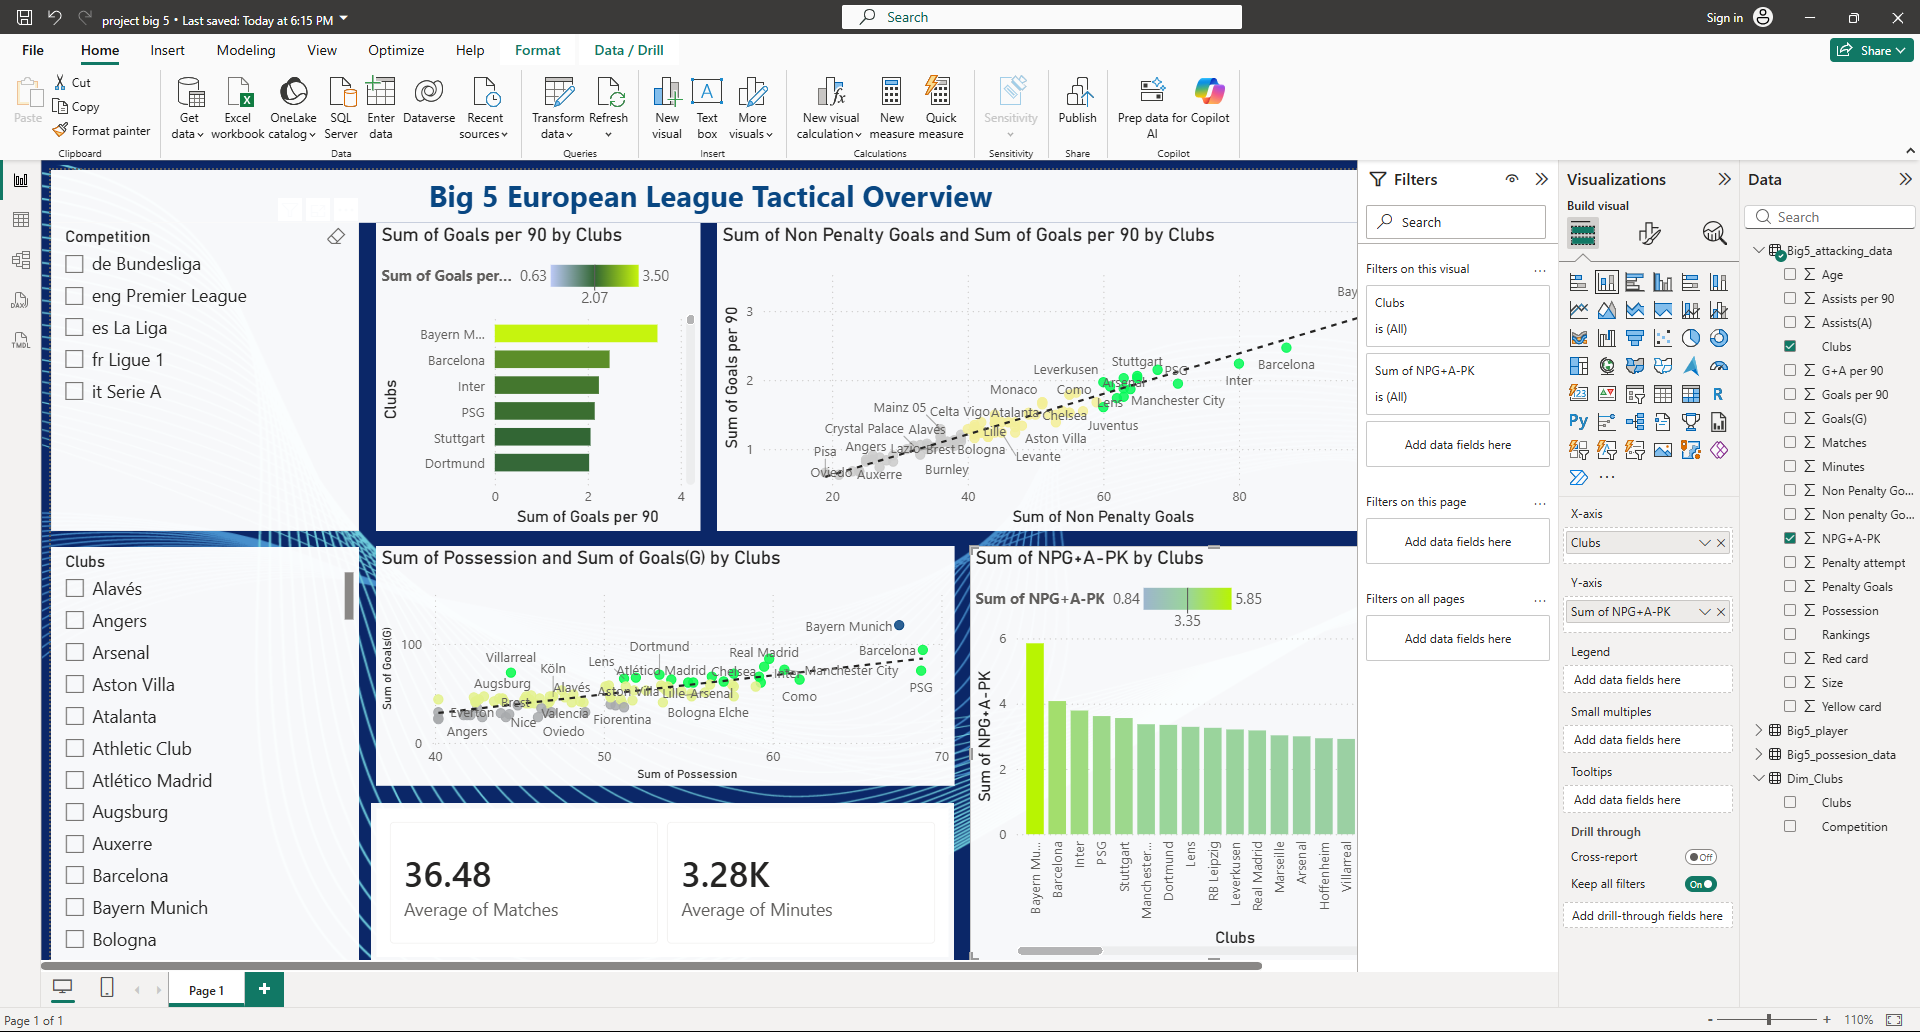

The page's visual inventory and layout, read from the dashboard file:
{"tool":"powerbi","page":{"name":"Page 1","canvas":[1280,720],"ordinal":0},"visuals":[{"type":"slicer","fields":{"Values":["Dim_Clubs.Competition"]},"box":[0,47.7,280.1,280.1],"z":0},{"type":"slicer","fields":{"Values":["Dim_Clubs.Clubs"]},"box":[0,342.4,280.1,377.4],"z":1000},{"type":"scatterChart","fields":{"X":["Sum(Big5_attacking_data.Possession)"],"Y":["Sum(Big5_attacking_data.Goals(G))"],"Category":["Dim_Clubs.Clubs"]},"box":[295,342,526,218],"z":2000},{"type":"clusteredBarChart","fields":{"Category":["Big5_attacking_data.Clubs"],"Y":["Sum(Big5_attacking_data.Goals per 90)"]},"box":[295,48,295,280],"z":3000},{"type":"scatterChart","fields":{"Y":["Sum(Big5_attacking_data.Goals per 90)"],"X":["Sum(Big5_attacking_data.Non Penalty Goals)"],"Category":["Big5_attacking_data.Clubs"]},"box":[605.6,47.8,674.4,280],"z":4000},{"type":"cardVisual","fields":{"Data":["Avg(Big5_attacking_data.Matches)","Avg(Big5_attacking_data.Minutes)"]},"box":[291,575,530,145],"z":5000},{"type":"textbox","box":[0,0,1280,47.7],"z":6000},{"type":"columnChart","fields":{"Category":["Big5_attacking_data.Clubs"],"Y":["Sum(Big5_attacking_data.NPG+A-PK)"]},"box":[835,342,444,377],"z":7000}]}

Visuals, with their boxes on the page's 1280x720 design canvas (x1, y1, x2, y2). These are canvas units, not pixel positions in the 1920x1032 screenshot, which may show the page scaled, cropped or inside an application window:
slicer - Dim_Clubs.Competition: pyautogui.locateOnScreen(0, 48, 280, 328)
slicer - Dim_Clubs.Clubs: pyautogui.locateOnScreen(0, 342, 280, 720)
scatterChart - Sum(Big5_attacking_data.Possession) x Sum(Big5_attacking_data.Goals(G)): pyautogui.locateOnScreen(295, 342, 821, 560)
clusteredBarChart - Big5_attacking_data.Clubs x Sum(Big5_attacking_data.Goals per 90): pyautogui.locateOnScreen(295, 48, 590, 328)
scatterChart - Sum(Big5_attacking_data.Goals per 90) x Sum(Big5_attacking_data.Non Penalty Goals): pyautogui.locateOnScreen(606, 48, 1280, 328)
cardVisual - Avg(Big5_attacking_data.Matches) x Avg(Big5_attacking_data.Minutes): pyautogui.locateOnScreen(291, 575, 821, 720)
textbox: pyautogui.locateOnScreen(0, 0, 1280, 48)
columnChart - Big5_attacking_data.Clubs x Sum(Big5_attacking_data.NPG+A-PK): pyautogui.locateOnScreen(835, 342, 1279, 719)
